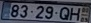2: (34, 4, 44, 19)
3: (19, 4, 28, 18)
8: (9, 4, 19, 18)
9: (44, 5, 53, 19)
H: (69, 7, 80, 21)
Q: (58, 6, 69, 20)
